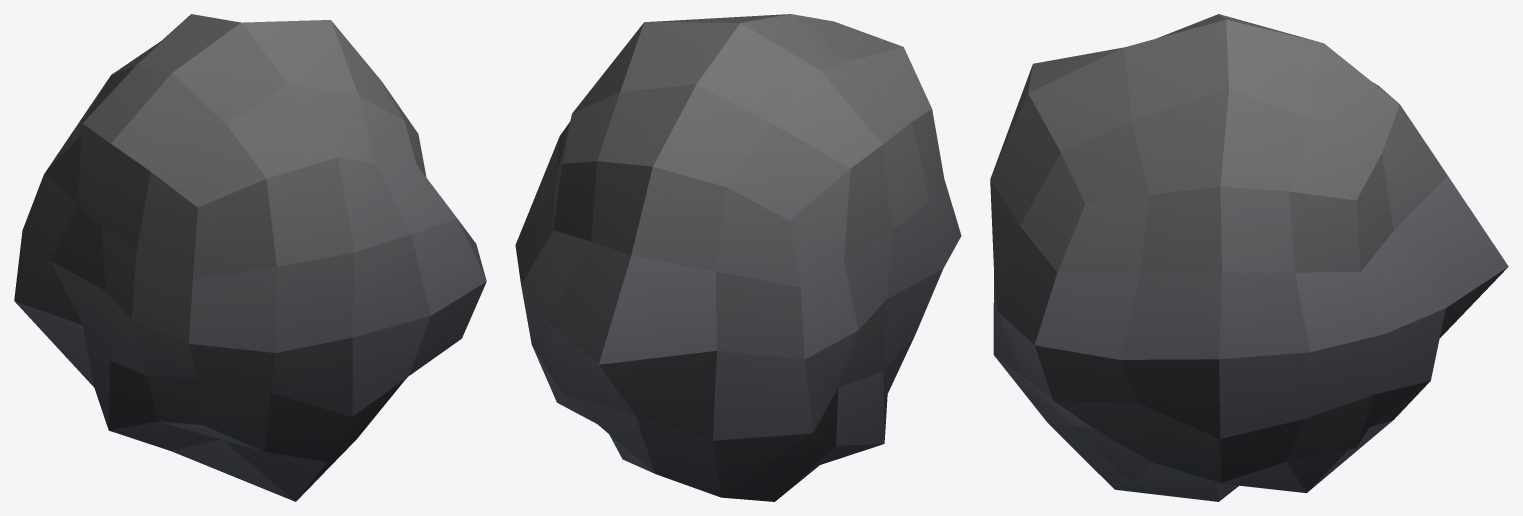
File: Rock_Large.fbx
3 renders of one model, left to right at view 1: azimuth 30°, elevation 25°; view 2: azimuth 150°, elevation 25°; view 3: azimuth 270°, elevation 25°, orthographic. The views are drawn at different scales.
Parts seen in each view (by area): view 1: Rock_Large; view 2: Rock_Large; view 3: Rock_Large.
Part boxes in pixels (box(x1,y1,x2,y2)): Rock_Large: box(14, 14, 486, 501); Rock_Large: box(515, 14, 961, 501); Rock_Large: box(990, 14, 1508, 501).
Size of the model in its own units: 301 by 383 by 377.
1 material, 1 textured.
